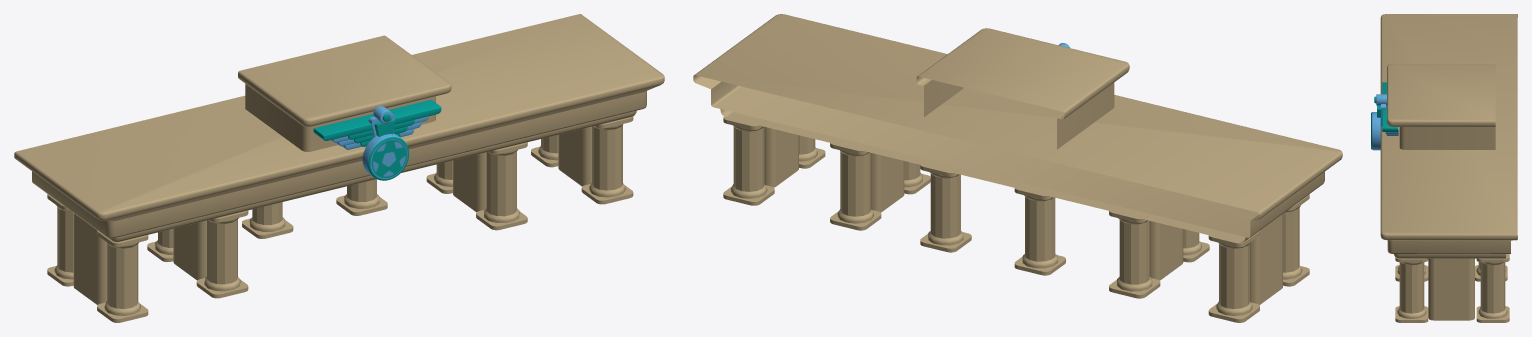
Rendered from brandenburg gate 1.fbx.
The picture shows the model from 3 angles, left to right: view 1: azimuth 30°, elevation 25°; view 2: azimuth 150°, elevation 25°; view 3: azimuth 270°, elevation 25°; orthographic projection. The views are drawn at different scales.
Visible parts, largest first — view 1: moldura techo A, tope, columna (×5), cabeza, techo, pared007, moneda, pared017, pared, pared012, columna019, columna020; view 2: moldura techo A, tope, columna (×4), techo, pared007, columna017, columna020, columna019, pared, pared012, pared017, pared011 (+2 smaller); view 3: moldura techo A, tope, pared, columna, columna017, techo, cabeza, moneda, bases columnas002, bases columnas, bases columnas003, bases columnas001 (+1 smaller).
Boxes of the visible parts, x1,y1,x2,y2 form: moldura techo A: (14,14,664,238); tope: (238,35,451,151); columna (×5): (54,124,625,315); cabeza: (313,99,441,149); techo: (52,110,636,242); pared007: (73,213,107,304); moneda: (362,133,409,180); pared017: (453,152,486,212); pared: (558,126,591,186); pared012: (173,220,206,280); columna019: (249,202,285,231); columna020: (344,179,379,208); moldura techo A: (693,14,1342,237); tope: (916,28,1129,149); columna (×4): (837,150,1302,315); techo: (720,109,1298,242); pared007: (1250,214,1282,304); columna017: (731,125,767,198); columna020: (928,172,963,245); columna019: (1022,195,1057,268); pared: (764,127,798,187); pared012: (1149,221,1183,280); pared017: (871,153,904,212); pared011: (1208,229,1259,247); moldura techo A: (1380,14,1517,253); tope: (1387,64,1495,149); pared: (1428,258,1474,320); columna: (1397,262,1426,318); columna017: (1478,262,1507,318); techo: (1394,254,1505,258); cabeza: (1374,82,1398,135); moneda: (1371,112,1380,150); bases columnas002: (1476,306,1509,322); bases columnas: (1395,306,1428,322); bases columnas003: (1476,254,1509,262); bases columnas001: (1395,257,1428,262).
Bounding box in the file's own units: 18983 × 5164 × 5325.
